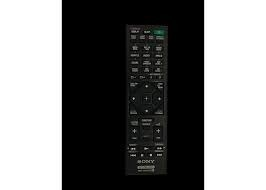remote control: (122, 22, 168, 177)
